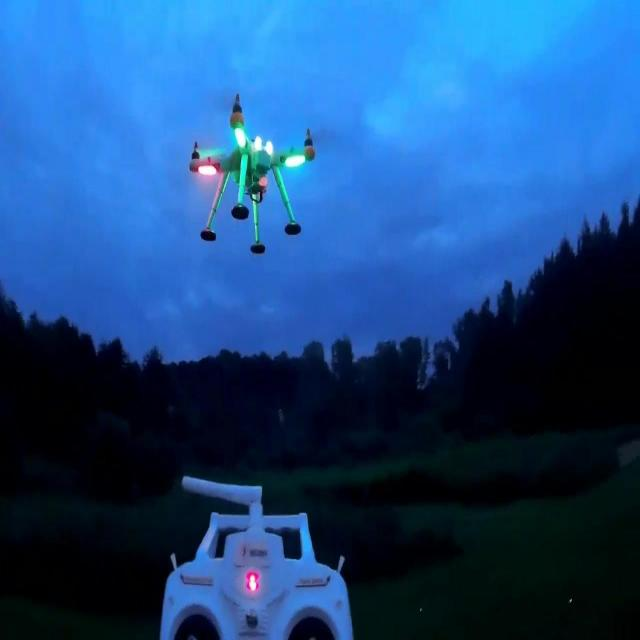UAV: (189, 92, 315, 254)
